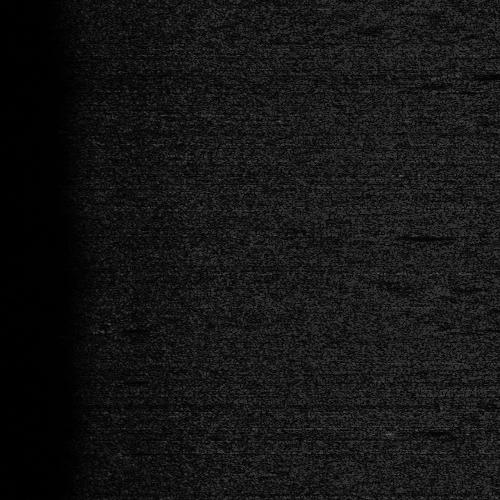rock: (437, 70, 490, 77)
shadow: (464, 70, 500, 77)
